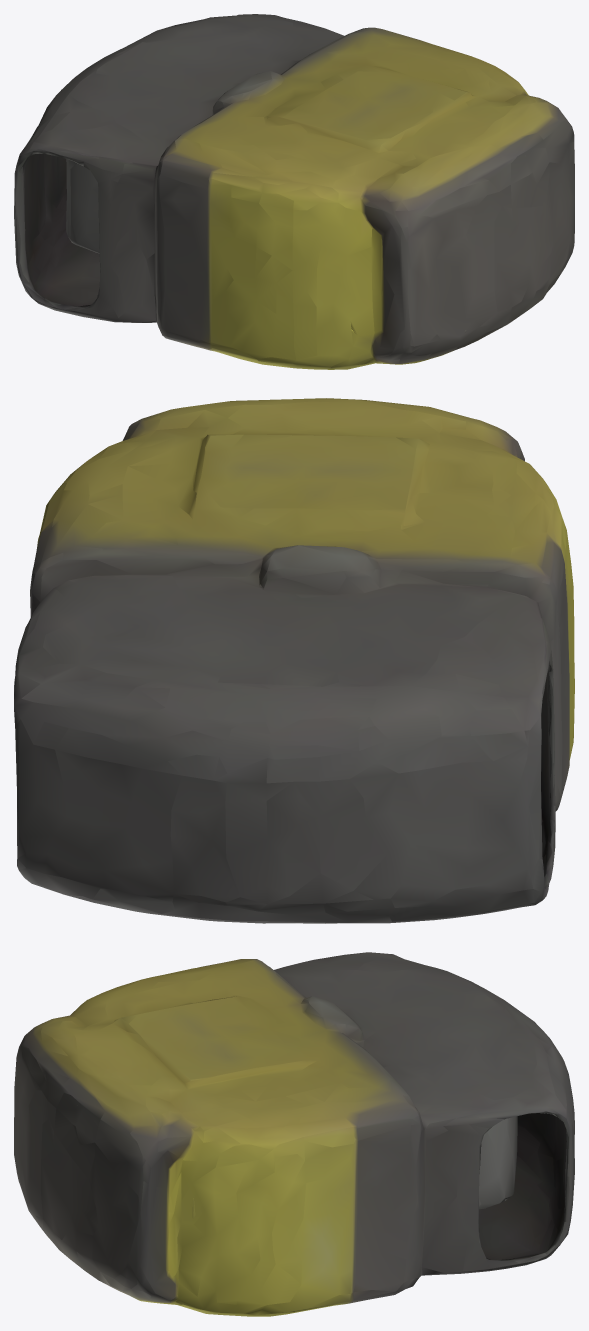
Rendered from 0005_mask_006_tape_measure.glb.
3 views of the same model, one above another, from view 1: azimuth 30°, elevation 25°; view 2: azimuth 150°, elevation 25°; view 3: azimuth 270°, elevation 25° (orthographic). The views are drawn at different scales.
Parts seen in each view (by area): view 1: mask_006_object; view 2: mask_006_object; view 3: mask_006_object.
Boxes of the visible parts, x1,y1,x2,y2 form: mask_006_object: (14,14,574,369); mask_006_object: (14,398,574,923); mask_006_object: (14,952,574,1316).
Bounding box in the file's own units: 0.0845 × 0.0385 × 0.0928.
